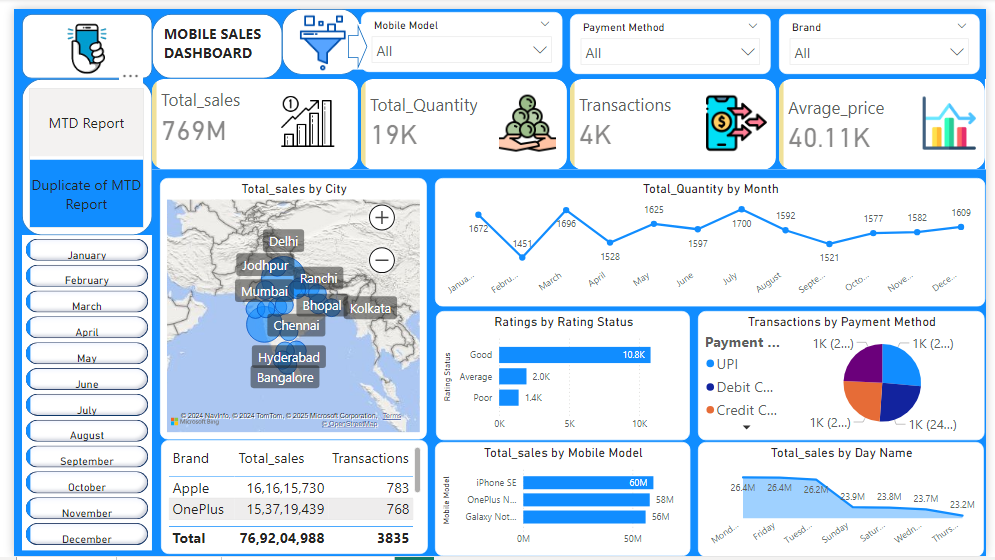

What the dashboard file says about the page in this screenshot:
{"tool":"powerbi","page":{"name":"Dashboard","canvas":[1280,720],"ordinal":0},"visuals":[{"type":"shape","box":[9.9,7.1,171.5,85],"z":0},{"type":"image","box":[0,4.3,192.8,96.4],"z":1000},{"type":"shape","box":[9.9,297.6,171.5,415.3],"z":2000},{"type":"advancedSlicerVisual","fields":{"Values":["Calendar.Date.Variation.Date Hierarchy.Month"]},"box":[9.9,297.6,171.5,415.3],"z":3000},{"type":"shape","box":[9.9,92.1,171.5,205.5],"z":4000},{"type":"cardVisual","fields":{"Data":["Sales_data.Total_sales","Sales_data.Total_Quantity","Sales_data.Transactions","Sales_data.Avrage_price"]},"box":[181.4,92.1,1098.4,119.1],"z":5000},{"type":"slicer","fields":{"Values":["Sales_data.Mobile Model"]},"box":[456.4,4.3,265,79.4],"z":6000},{"type":"slicer","fields":{"Values":["Sales_data.Payment Method"]},"box":[731.3,7.1,263.6,79.4],"z":7000},{"type":"slicer","fields":{"Values":["Sales_data.Brand"]},"box":[1006.3,7.1,263.6,79.4],"z":8000},{"type":"shape","box":[352.9,0,103.5,86.5],"z":9000},{"type":"image","box":[358.6,2.8,93.5,83.6],"z":10000},{"type":"shape","box":[439.4,19.8,25.5,59.5],"z":11000},{"type":"shape","box":[181.4,7.1,171.5,85],"z":12000},{"type":"textbox","box":[192.8,14.2,150.2,69.4],"z":13000},{"type":"map","fields":{"Category":["Sales_data.City"],"Size":["Sales_data.Total_sales"]},"box":[192.8,222.5,351.5,344.4],"z":14000},{"type":"lineChart","fields":{"Y":["Sales_data.Total_Quantity"],"Category":["Calendar.Date.Variation.Date Hierarchy.Month"]},"box":[554.2,222.5,724.3,168.7],"z":15000},{"type":"barChart","title":"Ratings by Rating Status","fields":{"Category":["Sales_data.Rating Status"],"Y":["Sum(Sales_data.Customer Ratings)"]},"box":[555.6,396.9,334.5,170.1],"z":16000},{"type":"pieChart","fields":{"Category":["Sales_data.Payment Method"],"Y":["Sales_data.Transactions"]},"box":[900,396.9,377,170.1],"z":17000},{"type":"barChart","fields":{"Category":["Sales_data.Mobile Model"],"Y":["Sales_data.Total_sales"]},"box":[554.2,569.8,335.9,150.2],"z":18000},{"type":"areaChart","fields":{"Category":["Calendar.Day Name"],"Y":["Sales_data.Total_sales"]},"box":[900.4,569.4,376.3,151.2],"z":19000},{"type":"tableEx","fields":{"Values":["Sales_data.Brand","Sales_data.Total_sales","Sales_data.Transactions"]},"box":[193,567,351,150],"z":20000},{"type":"pageNavigator","box":[19.8,103.5,151.7,184.3],"z":20001}]}

Visuals, with their boxes in screenshot pixels (x1, y1, x2, y2), scaled from the page's 1280x720 canvas onto the 995x560 screenshot:
shape: <bbox>8, 6, 141, 72</bbox>
image: <bbox>0, 3, 150, 78</bbox>
shape: <bbox>8, 231, 141, 554</bbox>
advancedSlicerVisual - Calendar.Date.Variation.Date Hierarchy.Month: <bbox>8, 231, 141, 554</bbox>
shape: <bbox>8, 72, 141, 231</bbox>
cardVisual - Sales_data.Total_sales x Sales_data.Total_Quantity: <bbox>141, 72, 994, 164</bbox>
slicer - Sales_data.Mobile Model: <bbox>355, 3, 561, 65</bbox>
slicer - Sales_data.Payment Method: <bbox>568, 6, 773, 67</bbox>
slicer - Sales_data.Brand: <bbox>782, 6, 987, 67</bbox>
shape: <bbox>274, 0, 355, 67</bbox>
image: <bbox>279, 2, 351, 67</bbox>
shape: <bbox>342, 15, 361, 62</bbox>
shape: <bbox>141, 6, 274, 72</bbox>
textbox: <bbox>150, 11, 267, 65</bbox>
map - Sales_data.City x Sales_data.Total_sales: <bbox>150, 173, 423, 441</bbox>
lineChart - Sales_data.Total_Quantity x Calendar.Date.Variation.Date Hierarchy.Month: <bbox>431, 173, 994, 304</bbox>
"Ratings by Rating Status" barChart: <bbox>432, 309, 692, 441</bbox>
pieChart - Sales_data.Payment Method x Sales_data.Transactions: <bbox>700, 309, 993, 441</bbox>
barChart - Sales_data.Mobile Model x Sales_data.Total_sales: <bbox>431, 443, 692, 559</bbox>
areaChart - Calendar.Day Name x Sales_data.Total_sales: <bbox>700, 443, 992, 559</bbox>
tableEx - Sales_data.Brand x Sales_data.Total_sales: <bbox>150, 441, 423, 558</bbox>
pageNavigator: <bbox>15, 80, 133, 224</bbox>
